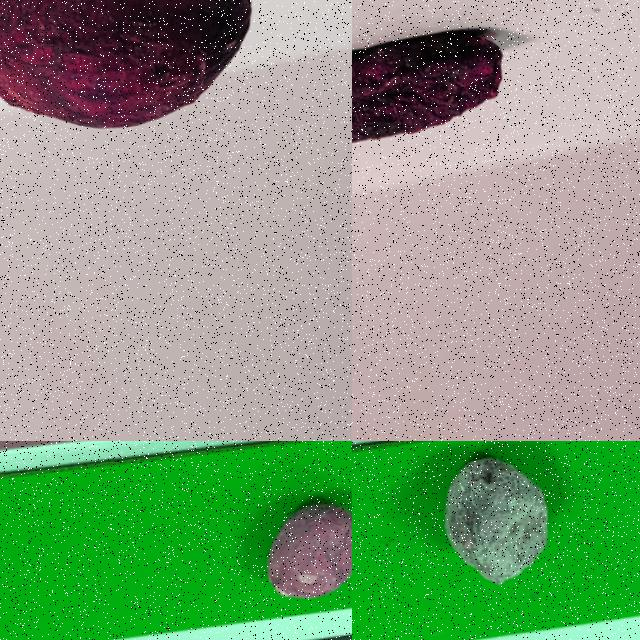Agglomerated_cocoabeans: (352, 441, 605, 635)
Fine_cocoabeans: (0, 0, 351, 188), (166, 452, 351, 634)
Flat_cocoabeans: (352, 0, 613, 249)
